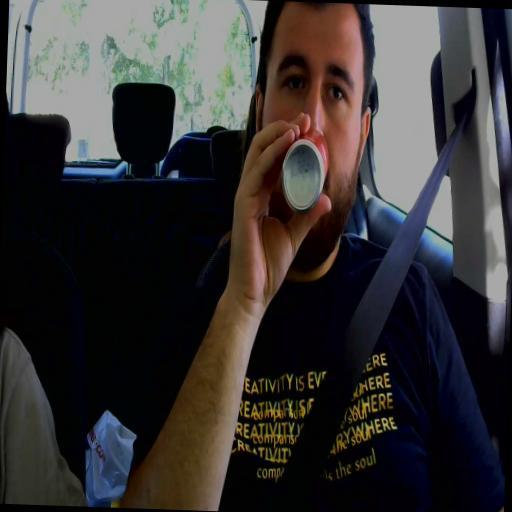Drinking: (247, 8, 372, 264)
